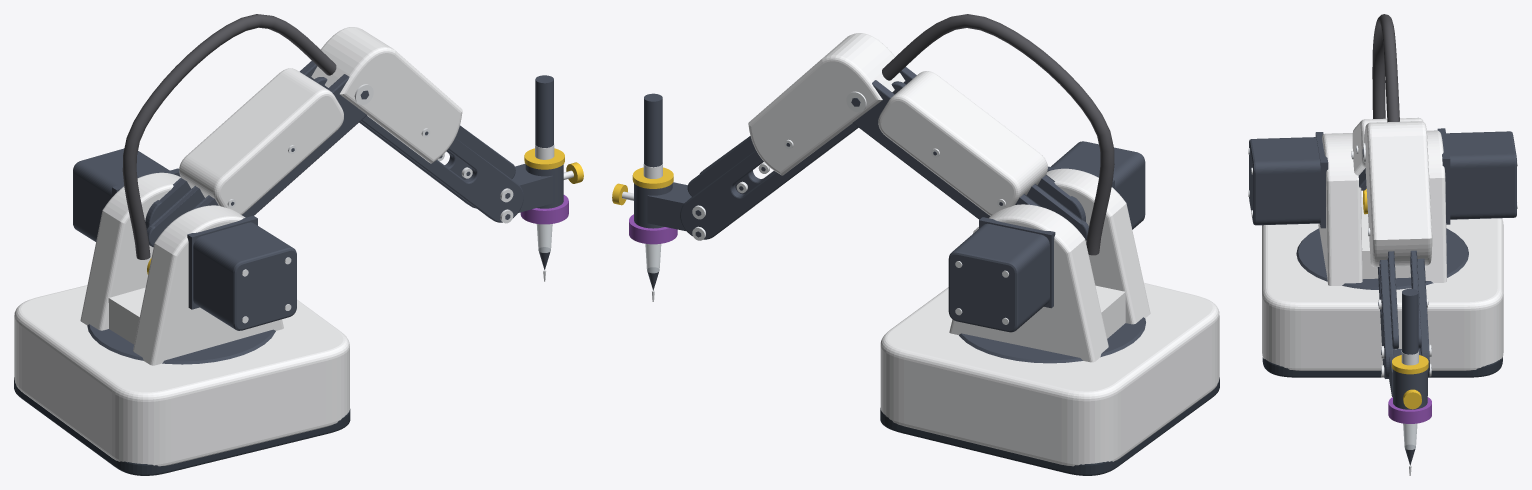
Rendered from dobot_magician_classic_digital_twin.glb.
The picture shows the model from 3 angles, left to right: view 1: azimuth 30°, elevation 25°; view 2: azimuth 150°, elevation 25°; view 3: azimuth 270°, elevation 25°; orthographic projection. The views are drawn at different scales.
Visible parts, largest first — view 1: 01_Stationary_Base, 02_J1_Turret_Yaw, 03_J2_Rear_Arm, object 12, 06_Precision_Pen_Holder, object 10, 05_J4_Wrist_Bracket, object 11, object 8; view 2: 01_Stationary_Base, 02_J1_Turret_Yaw, 03_J2_Rear_Arm, object 12, 06_Precision_Pen_Holder, object 8, 05_J4_Wrist_Bracket, object 9; view 3: 01_Stationary_Base, 02_J1_Turret_Yaw, object 12, 06_Precision_Pen_Holder, object 10, 03_J2_Rear_Arm, object 8, object 11, object 9, 05_J4_Wrist_Bracket.
Boxes of the visible parts, <box> form: 01_Stationary_Base: <box>14,285,350,475</box>; 02_J1_Turret_Yaw: <box>73,14,336,365</box>; 03_J2_Rear_Arm: <box>145,61,366,229</box>; object 12: <box>311,27,462,163</box>; 06_Precision_Pen_Holder: <box>520,75,583,281</box>; object 10: <box>361,116,523,222</box>; 05_J4_Wrist_Bracket: <box>500,163,552,223</box>; object 11: <box>455,125,515,178</box>; object 8: <box>359,121,476,208</box>; 01_Stationary_Base: <box>880,282,1219,475</box>; 02_J1_Turret_Yaw: <box>882,14,1150,362</box>; 03_J2_Rear_Arm: <box>853,67,1085,221</box>; object 12: <box>748,33,905,175</box>; 06_Precision_Pen_Holder: <box>612,93,677,301</box>; object 8: <box>680,123,858,239</box>; 05_J4_Wrist_Bracket: <box>647,182,705,240</box>; object 9: <box>687,137,755,196</box>; 01_Stationary_Base: <box>1262,218,1503,377</box>; 02_J1_Turret_Yaw: <box>1248,14,1517,285</box>; object 12: <box>1364,121,1432,267</box>; 06_Precision_Pen_Holder: <box>1388,288,1431,475</box>; object 10: <box>1377,259,1393,378</box>; 03_J2_Rear_Arm: <box>1351,117,1423,190</box>; object 8: <box>1417,258,1429,377</box>; object 11: <box>1387,251,1398,349</box>; object 9: <box>1410,250,1421,348</box>; 05_J4_Wrist_Bracket: <box>1381,344,1431,396</box>.
Bounding box in the file's own units: 3.67 × 2.45 × 1.79.
